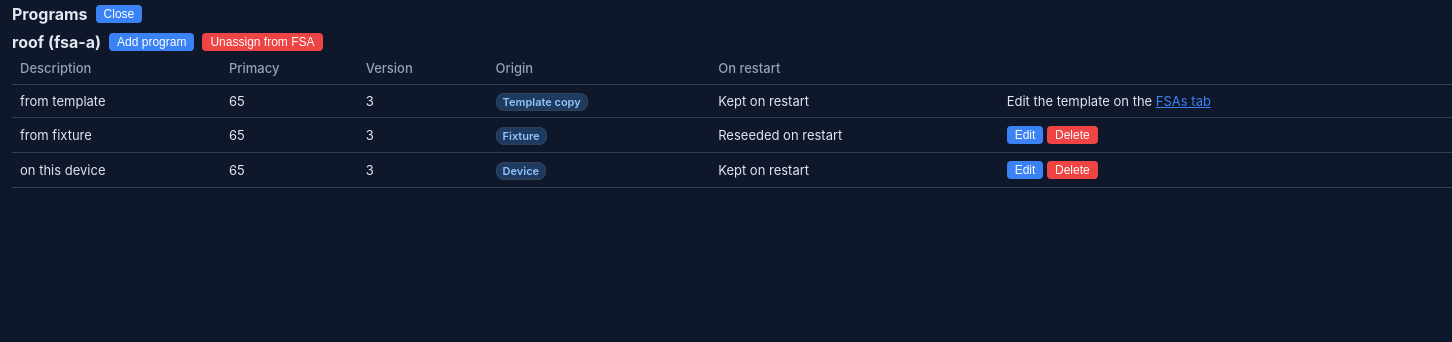
Test: DevicePrograms edit › shows the server refusal of an edit as sent, such as a program that turned out to be a template copy
Click the button with test id "program-edit-derp-d": (1025, 170) [1007,161,1043,179]
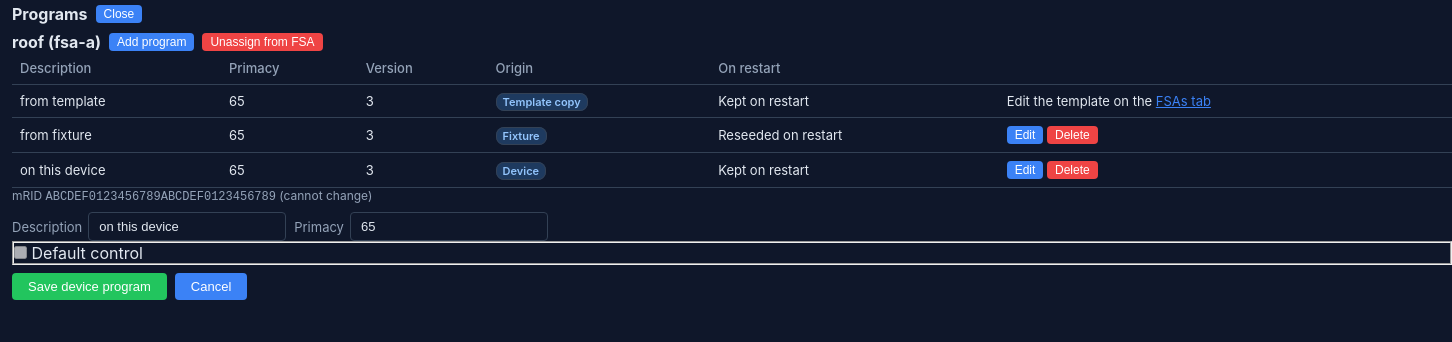
Click the button "Save device program": (89, 286) [12,273,167,300]
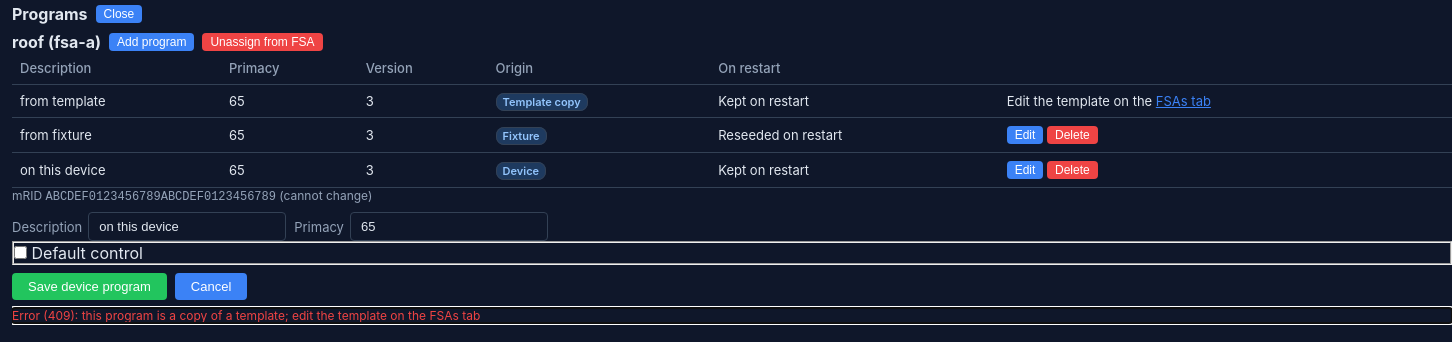
Expected: the message with test id "program-form-error" shows "Error (409): this program is a copy of a template; edit the template on the FSAs tab", [12,308,480,323]
